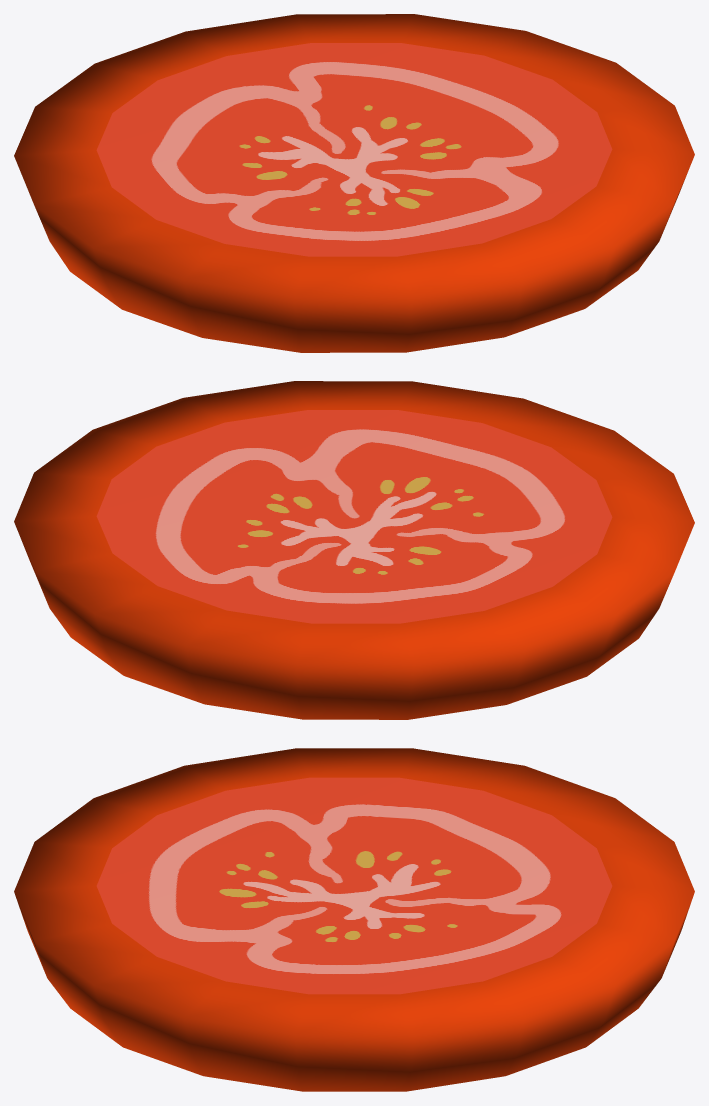
File: TomatoSlice_downmid.fbx
3 renders of one model, top to bottom at view 1: azimuth 30°, elevation 25°; view 2: azimuth 150°, elevation 25°; view 3: azimuth 270°, elevation 25°, orthographic.
Parts seen in each view (by area): view 1: down mid slice; view 2: down mid slice; view 3: down mid slice.
Part boxes in pixels (x1=…): down mid slice: x1=14, y1=14, x2=694, y2=352; down mid slice: x1=14, y1=381, x2=694, y2=719; down mid slice: x1=14, y1=748, x2=694, y2=1091.
Bounding box in the file's own units: 107 × 14.56 × 108.
Materials: 2 (1 with a texture image).
